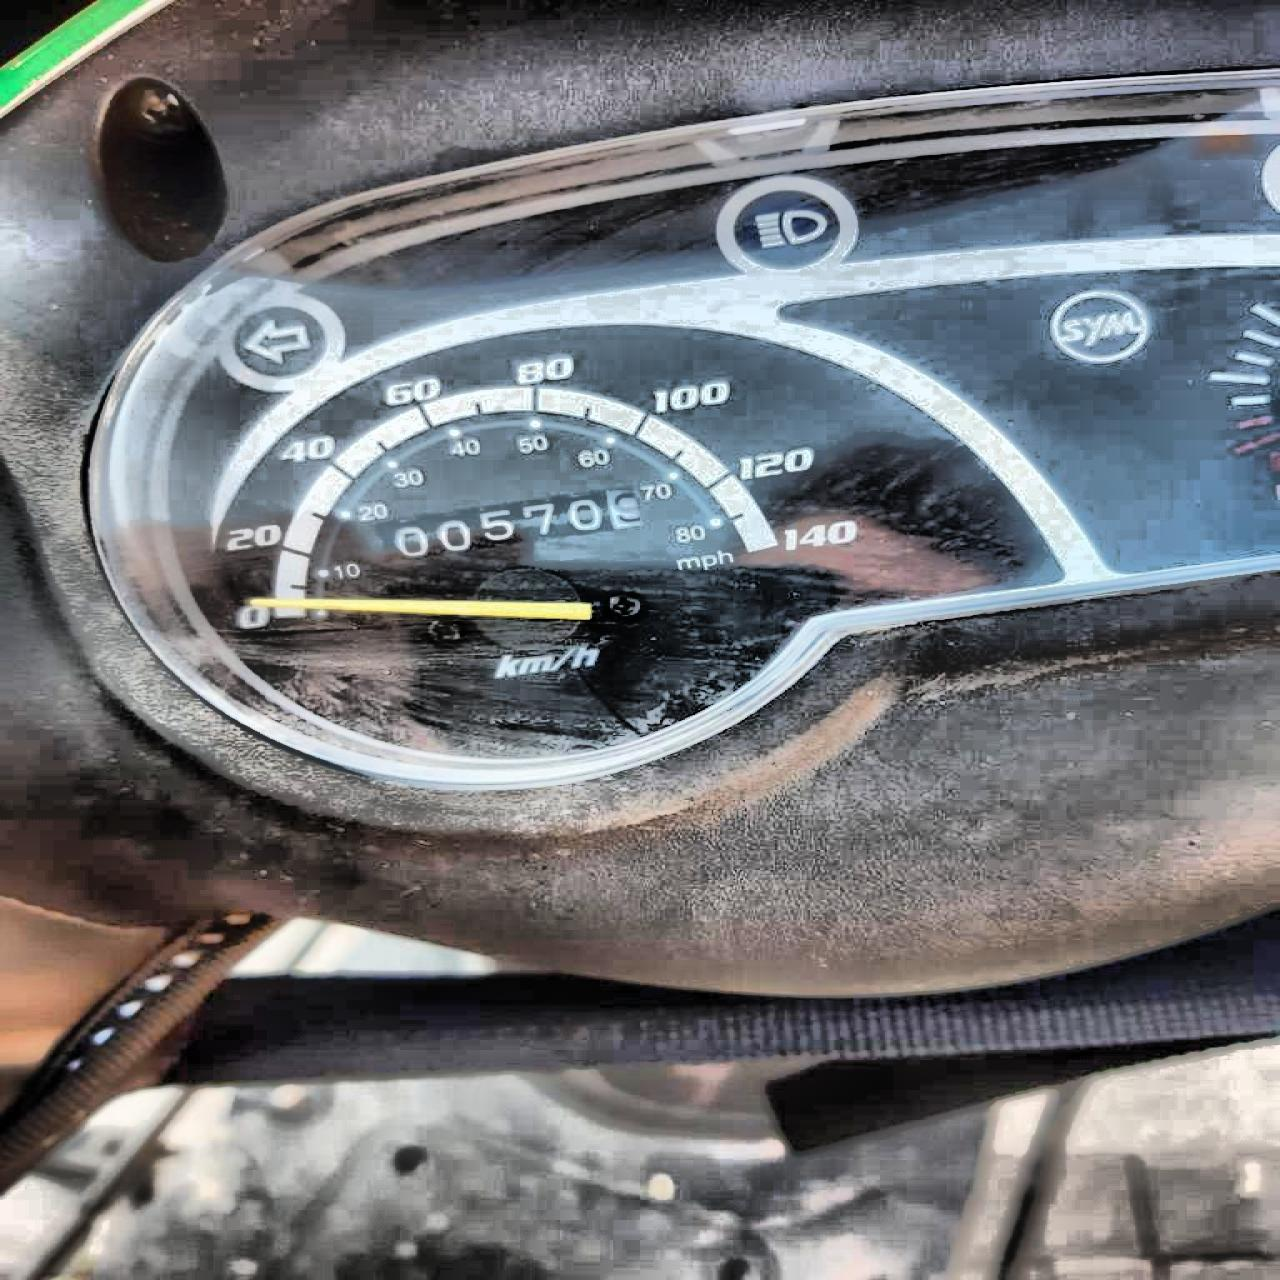0: (436, 518, 471, 552), (565, 498, 601, 530), (394, 526, 429, 558), (372, 503, 386, 518)
5: (478, 508, 513, 542)
7: (518, 501, 554, 535)
9: (611, 491, 641, 523)
odometer: (368, 483, 647, 565)
